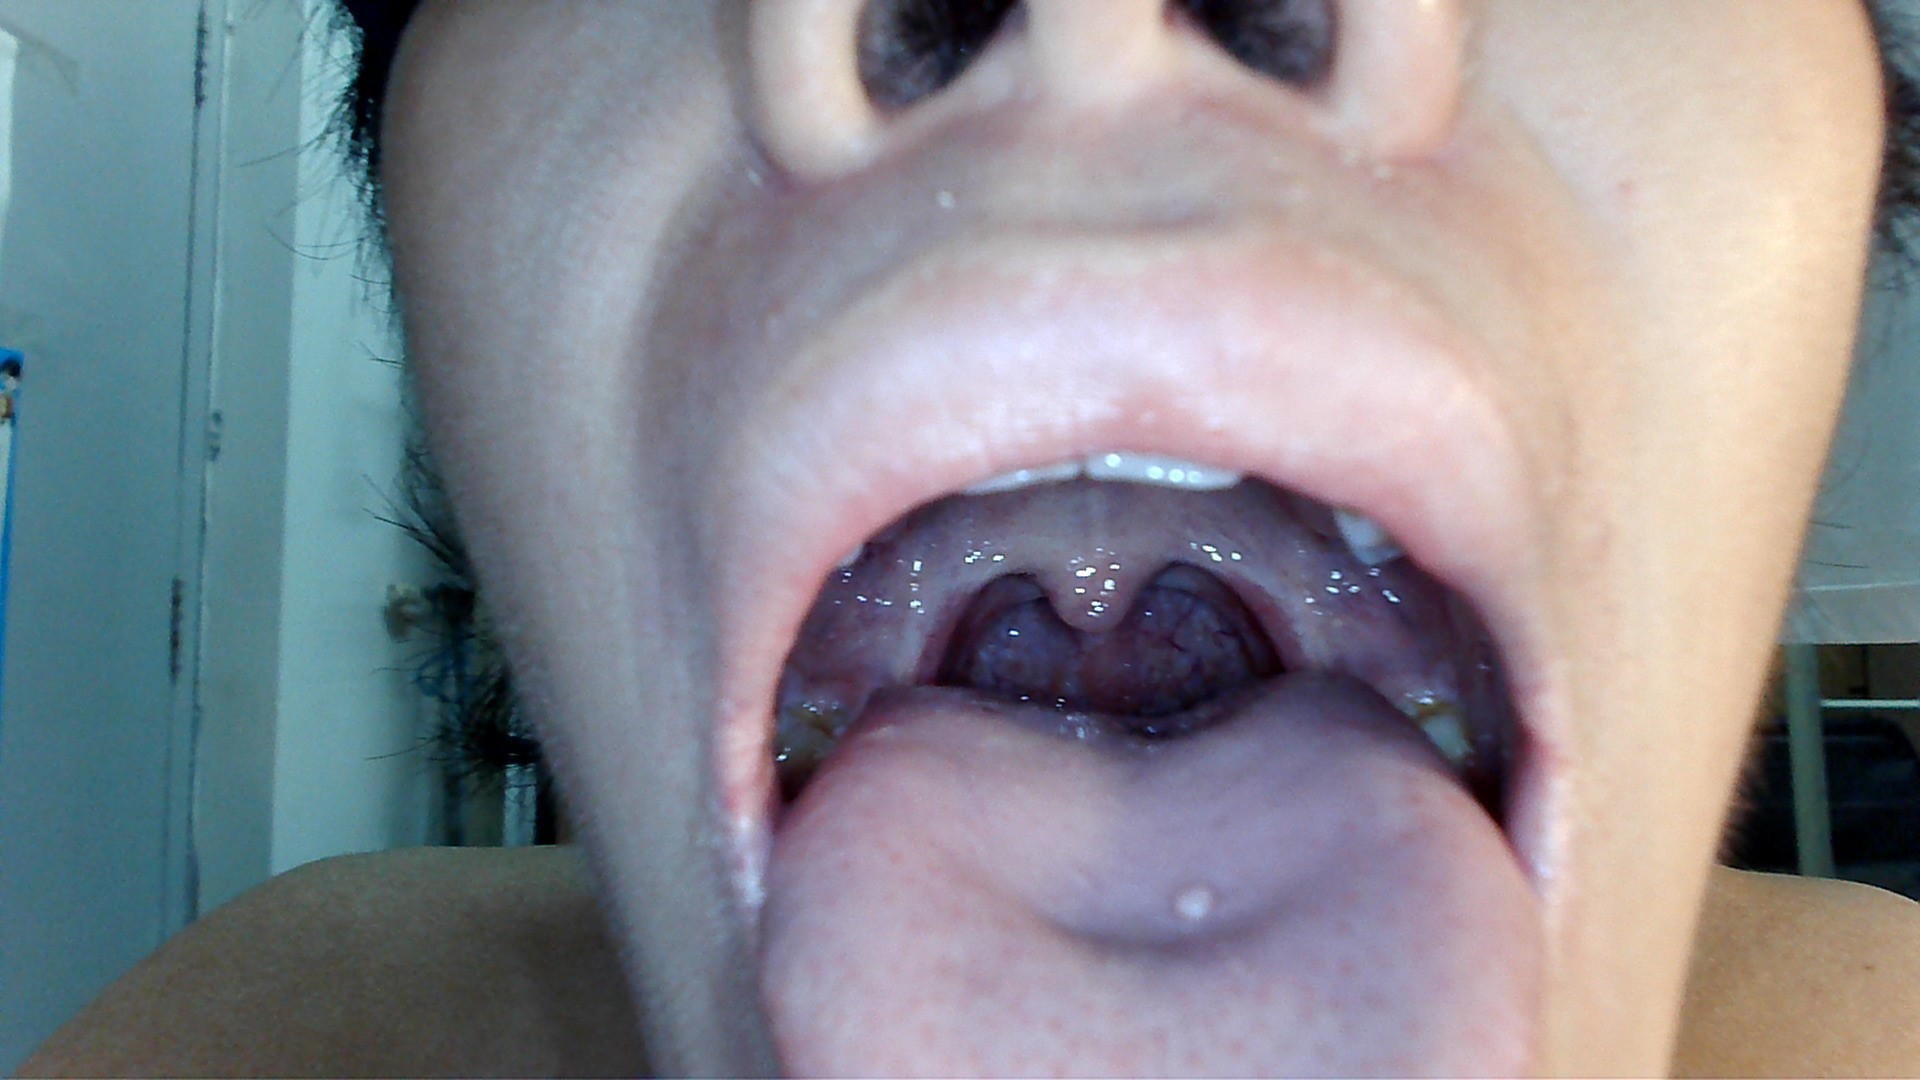throat: (1234, 560, 1323, 669), (878, 580, 967, 684)
